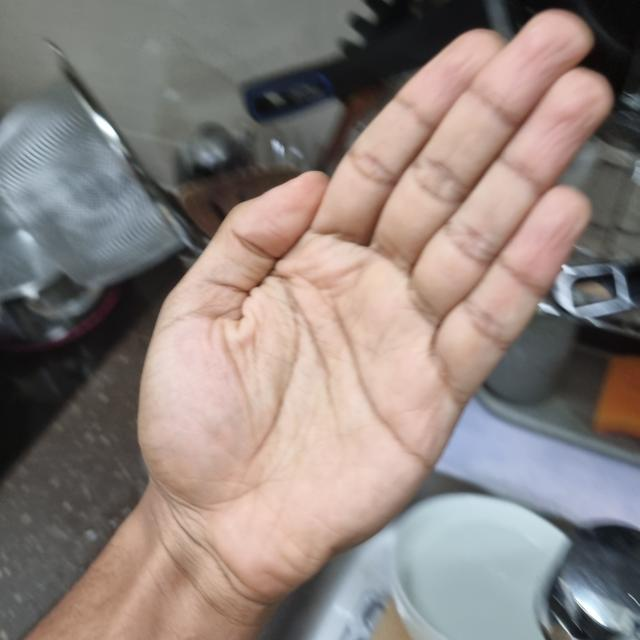Paper: (149, 11, 605, 579)
